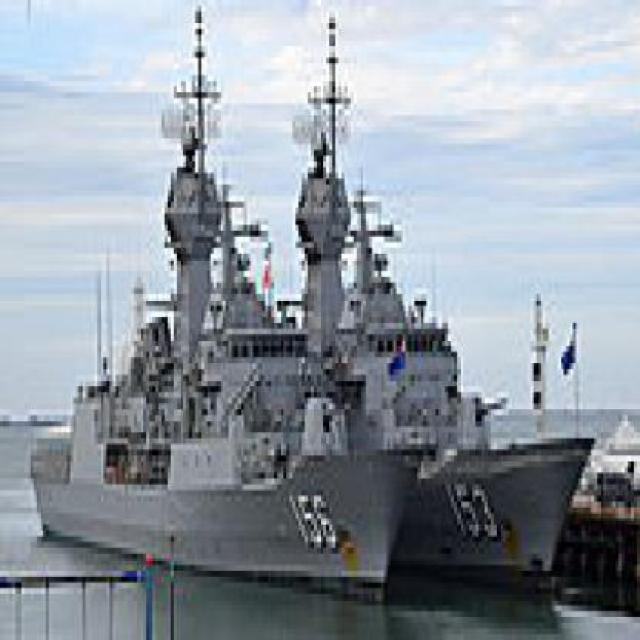warship2: (22, 99, 416, 606), (282, 13, 586, 584)
